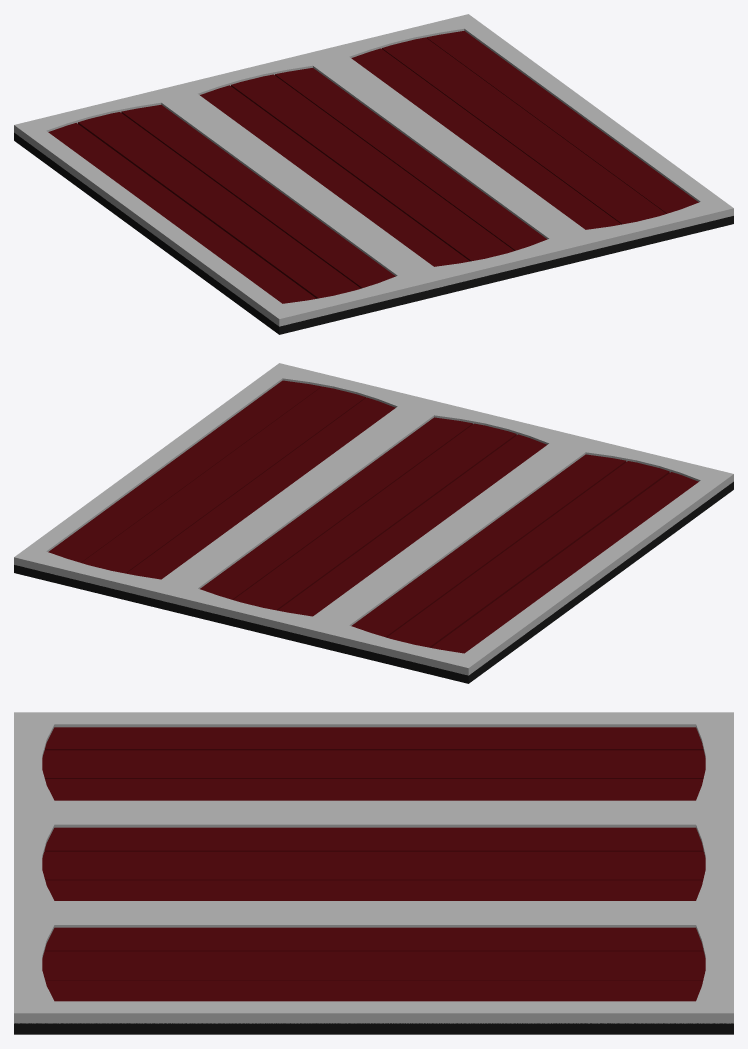
The model's file is floor_tier14.fbx.
The picture shows the model from 3 angles, top to bottom: view 1: azimuth 30°, elevation 25°; view 2: azimuth 150°, elevation 25°; view 3: azimuth 270°, elevation 25°; orthographic projection. The views are drawn at different scales.
Visible parts, largest first — view 1: Cube.002, Cube.009, Cube.003, Cube.006, Cube.008, Cube.005, Cube.011, Cube.004, Cube.010, Cube.007, Cube.001; view 2: Cube.002, Cube.009, Cube.003, Cube.006, Cube.008, Cube.005, Cube.011, Cube.004, Cube.010, Cube.007, Cube.001; view 3: Cube.002, Cube.009, Cube.003, Cube.006, Cube.004, Cube.010, Cube.007, Cube.008, Cube.011, Cube.005, Cube.001.
Boxes of the visible parts, box(x1,y1,x2,y2) form: Cube.002: box(14, 14, 733, 326); Cube.009: box(382, 37, 666, 224); Cube.003: box(231, 74, 514, 261); Cube.006: box(78, 112, 360, 298); Cube.008: box(121, 105, 395, 288); Cube.005: box(275, 68, 546, 250); Cube.011: box(426, 31, 698, 213); Cube.004: box(200, 85, 469, 266); Cube.010: box(351, 48, 621, 229); Cube.007: box(48, 123, 316, 303); Cube.001: box(14, 132, 733, 334); Cube.002: box(14, 363, 733, 675); Cube.009: box(81, 386, 365, 573); Cube.003: box(233, 423, 516, 610); Cube.006: box(387, 461, 669, 647); Cube.008: box(351, 454, 626, 637); Cube.005: box(200, 417, 472, 599); Cube.011: box(48, 380, 321, 562); Cube.004: box(278, 434, 546, 616); Cube.010: box(126, 397, 395, 579); Cube.007: box(431, 472, 698, 653); Cube.001: box(14, 481, 733, 683); Cube.002: box(14, 712, 733, 1023); Cube.009: box(42, 951, 705, 980); Cube.003: box(42, 851, 705, 880); Cube.006: box(42, 750, 705, 778); Cube.004: box(44, 827, 703, 851); Cube.010: box(44, 927, 703, 951); Cube.007: box(45, 727, 703, 750); Cube.008: box(45, 779, 703, 800); Cube.011: box(45, 980, 702, 1001); Cube.005: box(45, 880, 702, 900); Cube.001: box(14, 1023, 733, 1034).
Size of the model in its own units: 654 by 21.64 by 662.
